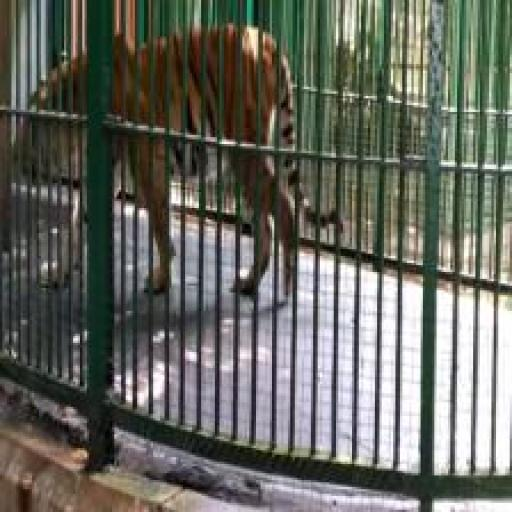Tiger: (4, 16, 350, 334)
